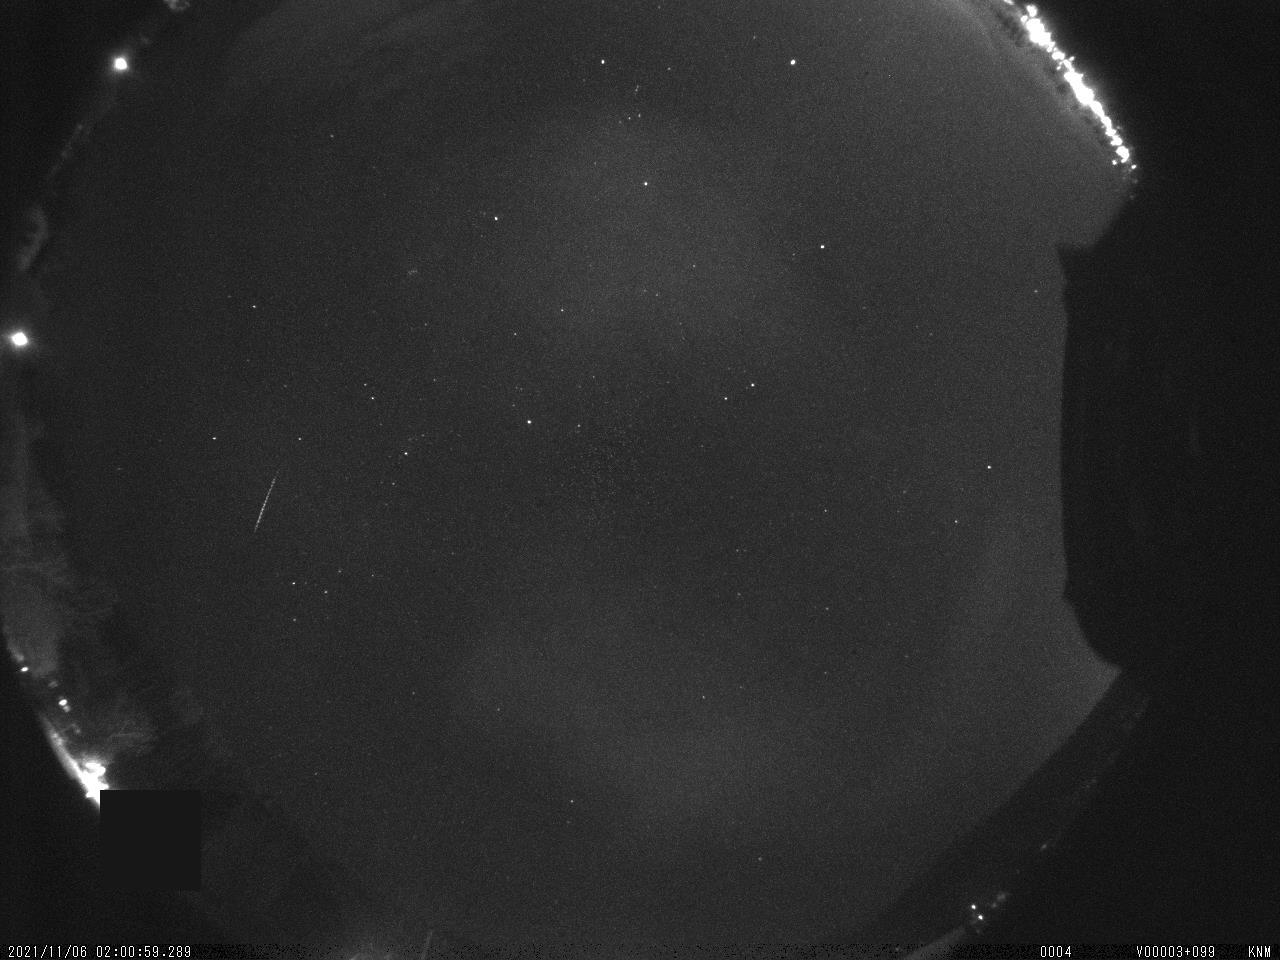meteor: (234, 458, 302, 541)
